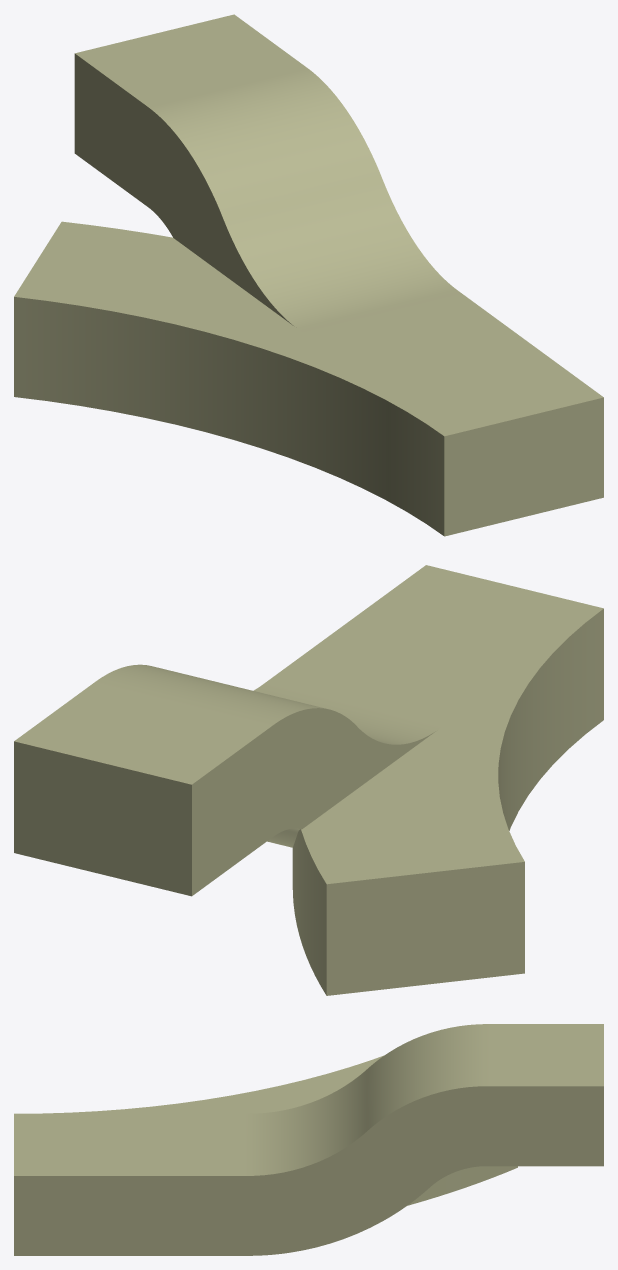
The model's file is model_03_hover.glb.
3 views of the same model, one above another, from view 1: azimuth 30°, elevation 25°; view 2: azimuth 150°, elevation 25°; view 3: azimuth 270°, elevation 25° (orthographic). The views are drawn at different scales.
Bounding box in the file's own units: 64.83 × 38.81 × 122.
